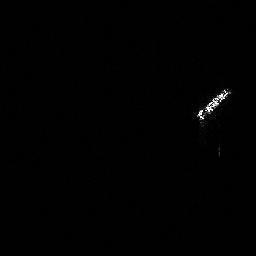ship: (194, 90, 232, 119)
